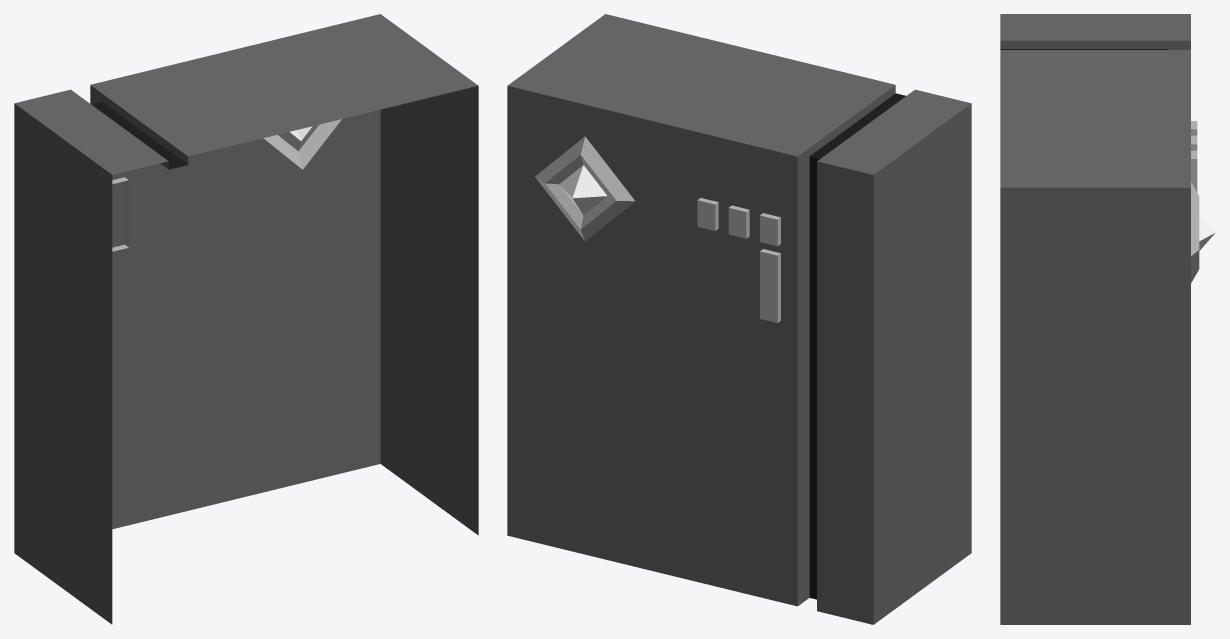
File: wall_tech_B.FBX
3 renders of one model, left to right at view 1: azimuth 30°, elevation 25°; view 2: azimuth 150°, elevation 25°; view 3: azimuth 270°, elevation 25°, orthographic. The views are drawn at different scales.
Parts seen in each view (by area): view 1: wall_tech_C; view 2: wall_tech_C, wall_tech_C_glow; view 3: wall_tech_C, wall_tech_C_glow.
Boxes of the visible parts, box(x1,y1,x2,y2) form: wall_tech_C: box(14, 14, 478, 624); wall_tech_C: box(507, 14, 971, 624); wall_tech_C_glow: box(559, 165, 607, 215); wall_tech_C: box(1000, 14, 1199, 624); wall_tech_C_glow: box(1199, 214, 1215, 250).
Size of the model in its own units: 54.86 by 64.42 by 28.76.
